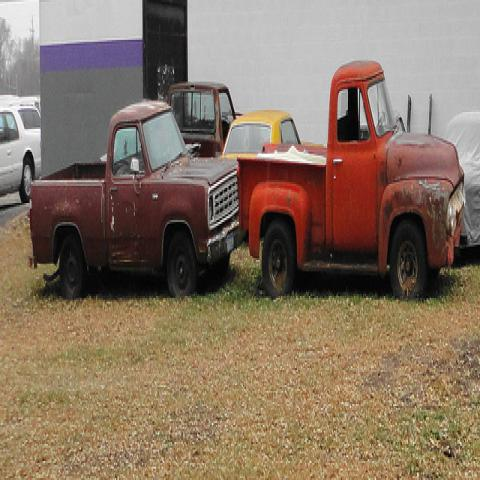car: (220, 107, 324, 157), (0, 105, 42, 202)
truck: (238, 64, 466, 305), (29, 98, 246, 300), (168, 81, 244, 158)
